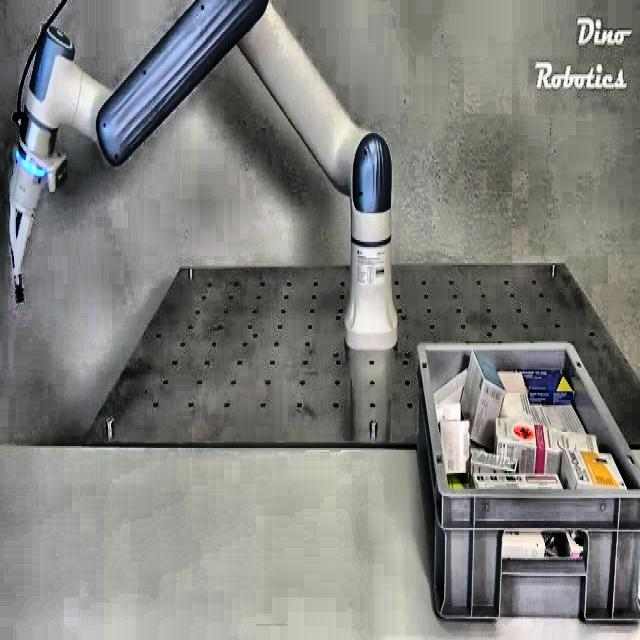robot: (7, 0, 398, 350)
